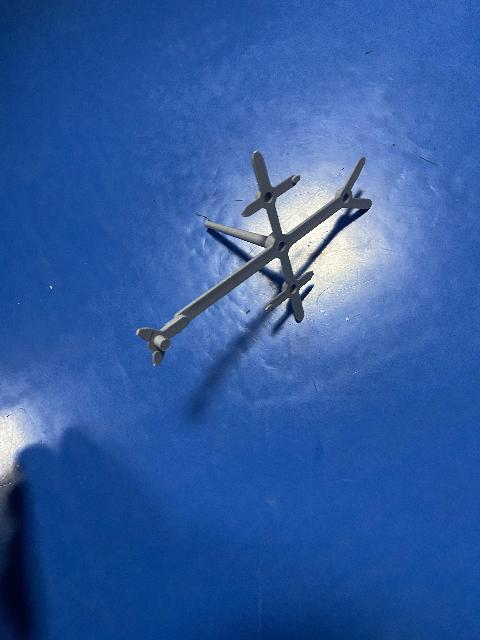Plastik: (133, 148, 384, 373)
